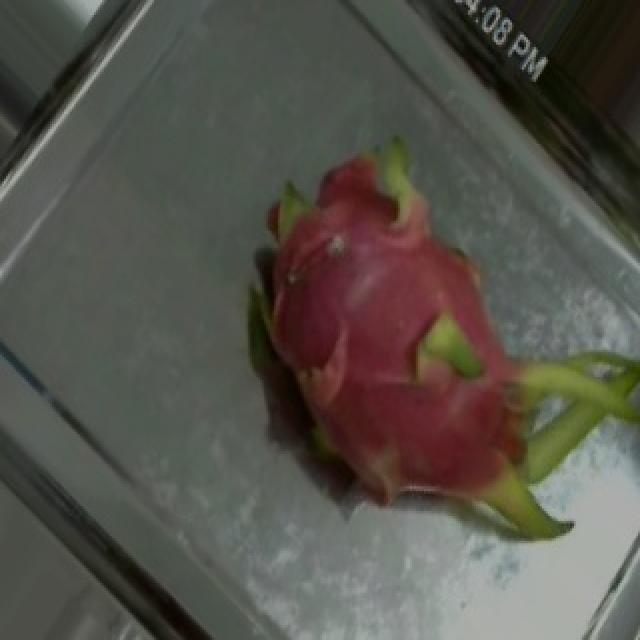fruit: (222, 171, 640, 623)
